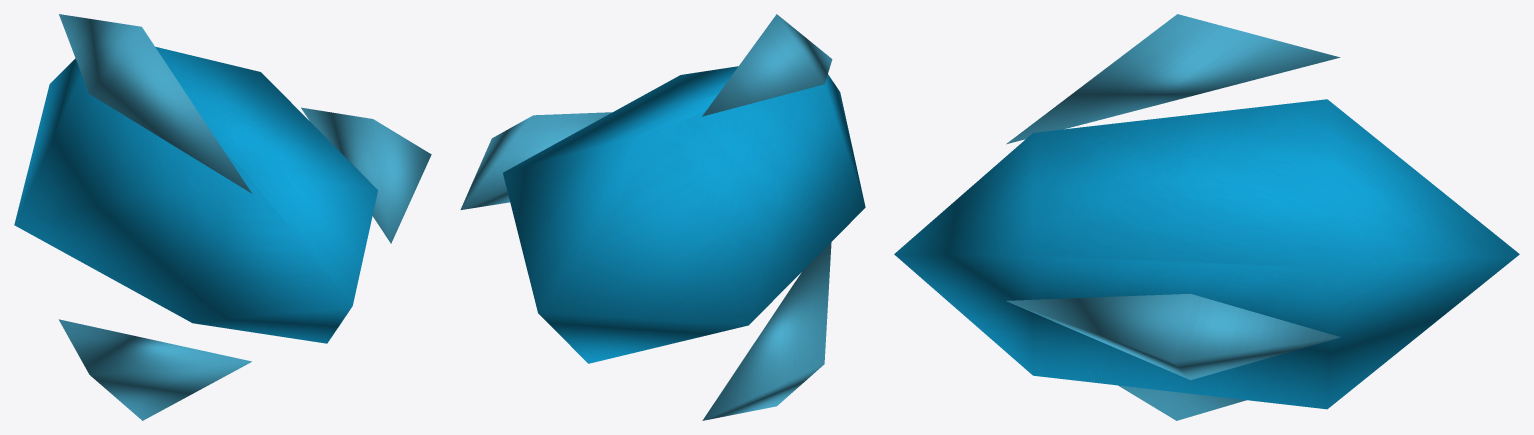
File: SM_manta_projectile_LOD2.fbx
3 views of the same model, side by side, from view 1: azimuth 30°, elevation 25°; view 2: azimuth 150°, elevation 25°; view 3: azimuth 270°, elevation 25° (orthographic). The views are drawn at different scales.
Parts seen in each view (by area): view 1: SM_manta_projectile_LOD2; view 2: SM_manta_projectile_LOD2; view 3: SM_manta_projectile_LOD2.
Part boxes in pixels (left/top/right/bottom): SM_manta_projectile_LOD2: left=14, top=14, right=431, bottom=420; SM_manta_projectile_LOD2: left=460, top=14, right=865, bottom=420; SM_manta_projectile_LOD2: left=894, top=14, right=1519, bottom=420.
Size of the model in its own units: 0.2011 by 0.312 by 0.2237.
